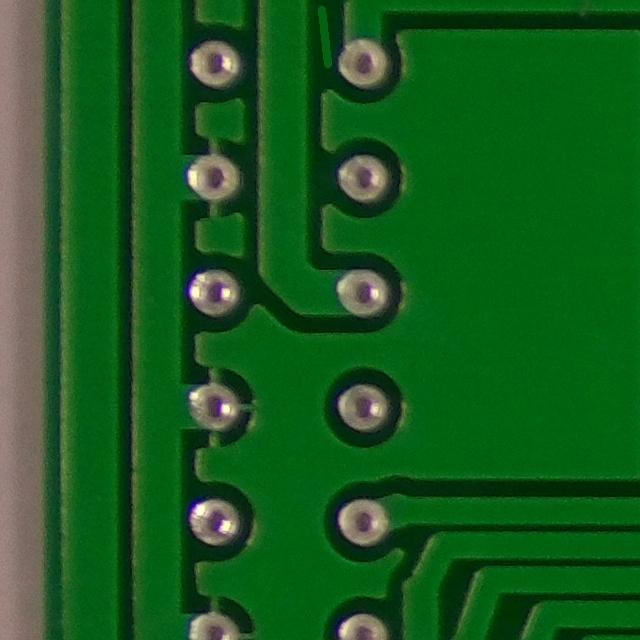spurious_copper: (308, 0, 342, 74)
